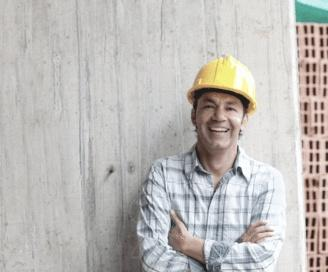helmet: (186, 55, 259, 117)
